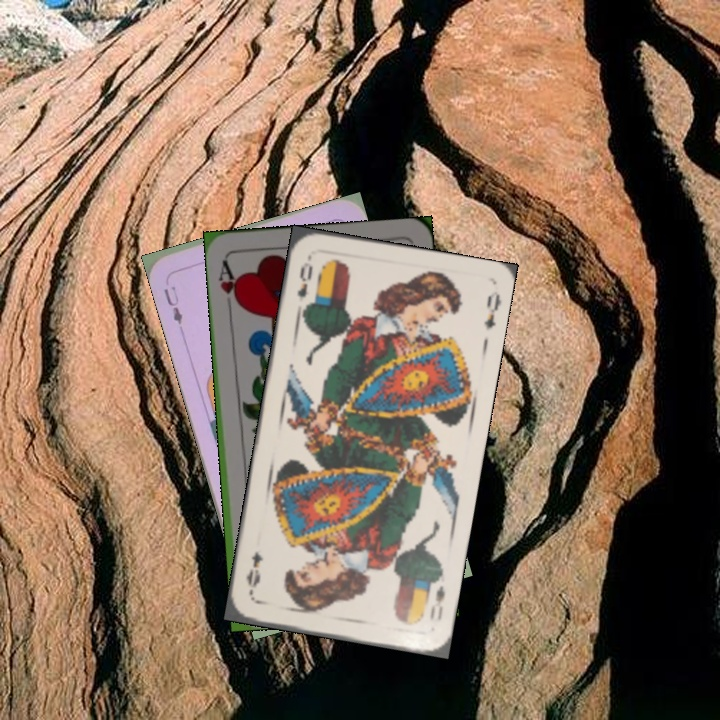EO: (293, 253, 316, 313), (425, 581, 448, 623)
EU: (159, 273, 185, 327)
HA: (215, 255, 243, 314)
